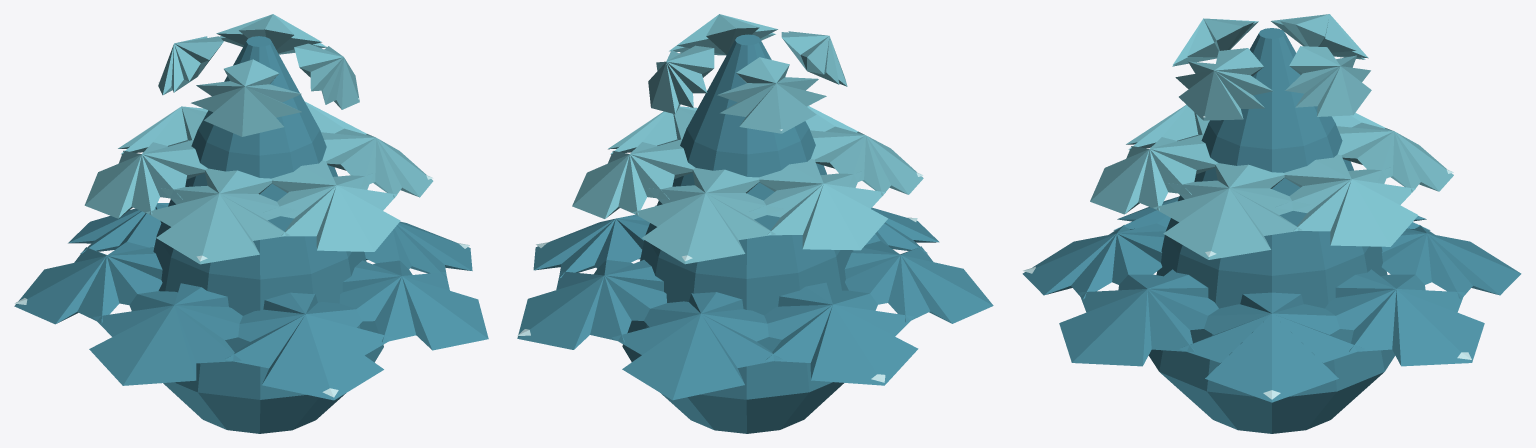
The model's file is FrostFernLeaves.obj.
3 renders of one model, left to right at view 1: azimuth 30°, elevation 25°; view 2: azimuth 150°, elevation 25°; view 3: azimuth 270°, elevation 25°, orthographic. The views are drawn at different scales.
Visible parts, largest first — view 1: FrostFernLeaves_FrostFernFoliage, FrostFernLeaves_FrostFernNewGrowth; view 2: FrostFernLeaves_FrostFernFoliage, FrostFernLeaves_FrostFernNewGrowth; view 3: FrostFernLeaves_FrostFernFoliage, FrostFernLeaves_FrostFernNewGrowth.
Boxes of the visible parts, box(x1,y1,x2,y2) form: FrostFernLeaves_FrostFernFoliage: box(14, 36, 488, 433); FrostFernLeaves_FrostFernNewGrowth: box(84, 14, 433, 264); FrostFernLeaves_FrostFernFoliage: box(517, 34, 993, 433); FrostFernLeaves_FrostFernNewGrowth: box(572, 14, 923, 264); FrostFernLeaves_FrostFernFoliage: box(1022, 28, 1521, 433); FrostFernLeaves_FrostFernNewGrowth: box(1090, 14, 1453, 259).
Size of the model in its own units: 3.23 by 2.8 by 3.4.
